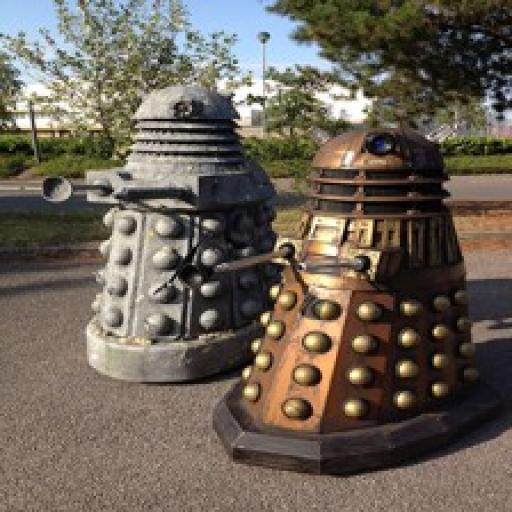dalek: (210, 122, 506, 478), (38, 81, 282, 381)
